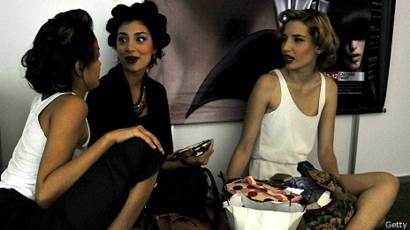person: (25, 4, 121, 181), (239, 11, 348, 146), (105, 8, 172, 146)
